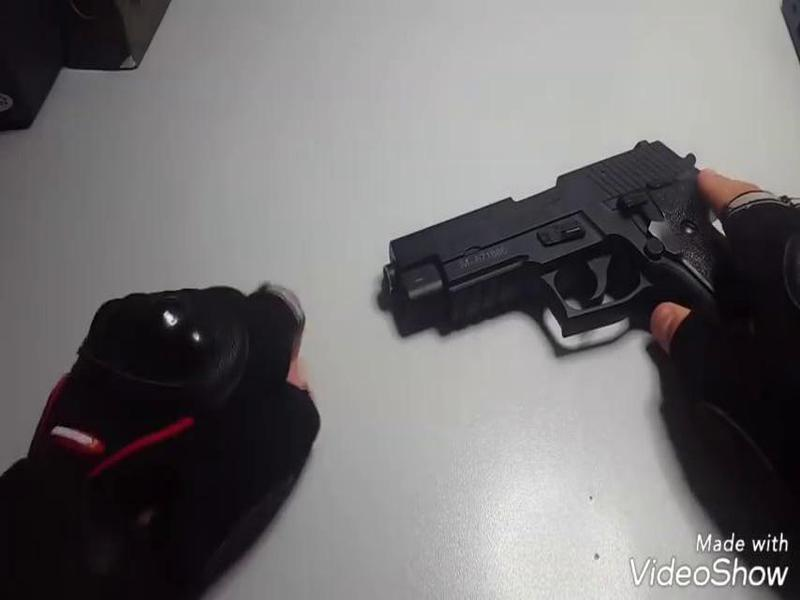Pistola: (362, 124, 755, 359)
